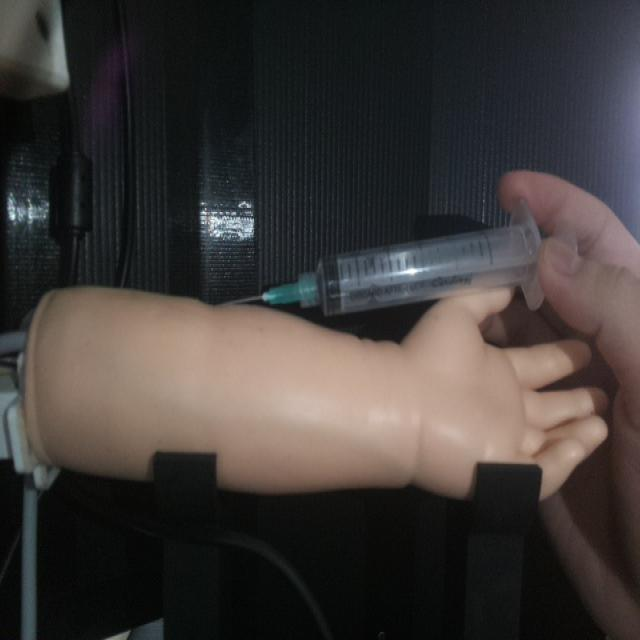Outside: (226, 194, 548, 318)
